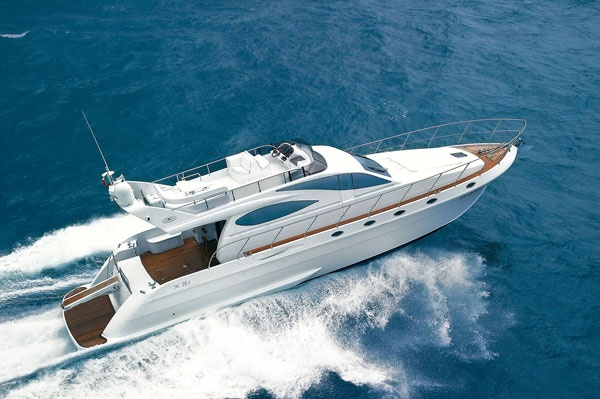yacht: (54, 110, 526, 355)
